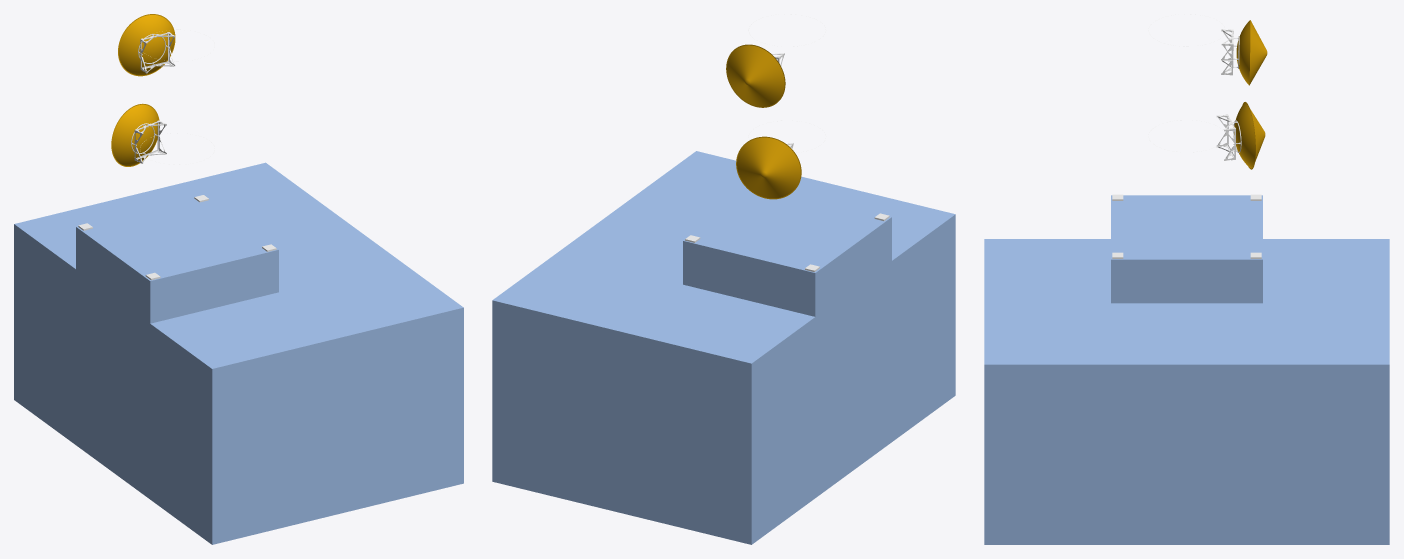
The model's file is 普久川.glb.
The picture shows the model from 3 angles, left to right: view 1: azimuth 30°, elevation 25°; view 2: azimuth 150°, elevation 25°; view 3: azimuth 270°, elevation 25°; orthographic projection. The views are drawn at different scales.
Parts seen in each view (by area): view 1: group_20, group_22, group_44.004, group_44; view 2: group_20, group_22, group_44, group_44.004; view 3: group_20, group_22, group_44, group_44.004.
Boxes of the visible parts, left/top/right/bottom form: group_20: left=14, top=162, right=463, bottom=544; group_22: left=76, top=198, right=278, bottom=323; group_44.004: left=118, top=15, right=174, bottom=75; group_44: left=112, top=104, right=158, bottom=165; group_20: left=492, top=151, right=955, bottom=544; group_22: left=683, top=191, right=891, bottom=316; group_44: left=737, top=137, right=800, bottom=198; group_44.004: left=727, top=45, right=784, bottom=106; group_20: left=984, top=239, right=1389, bottom=544; group_22: left=1111, top=195, right=1262, bottom=303; group_44: left=1234, top=103, right=1265, bottom=168; group_44.004: left=1236, top=20, right=1267, bottom=85.
Size of the model in its own units: 13.5 by 21.49 by 18.4.
